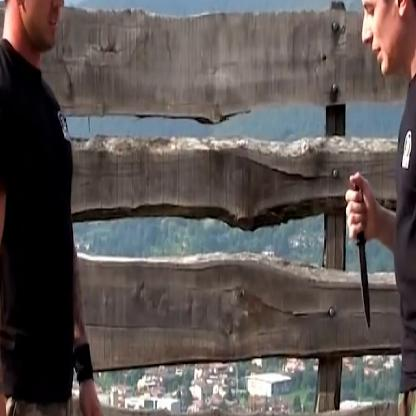knife: (341, 169, 375, 335)
